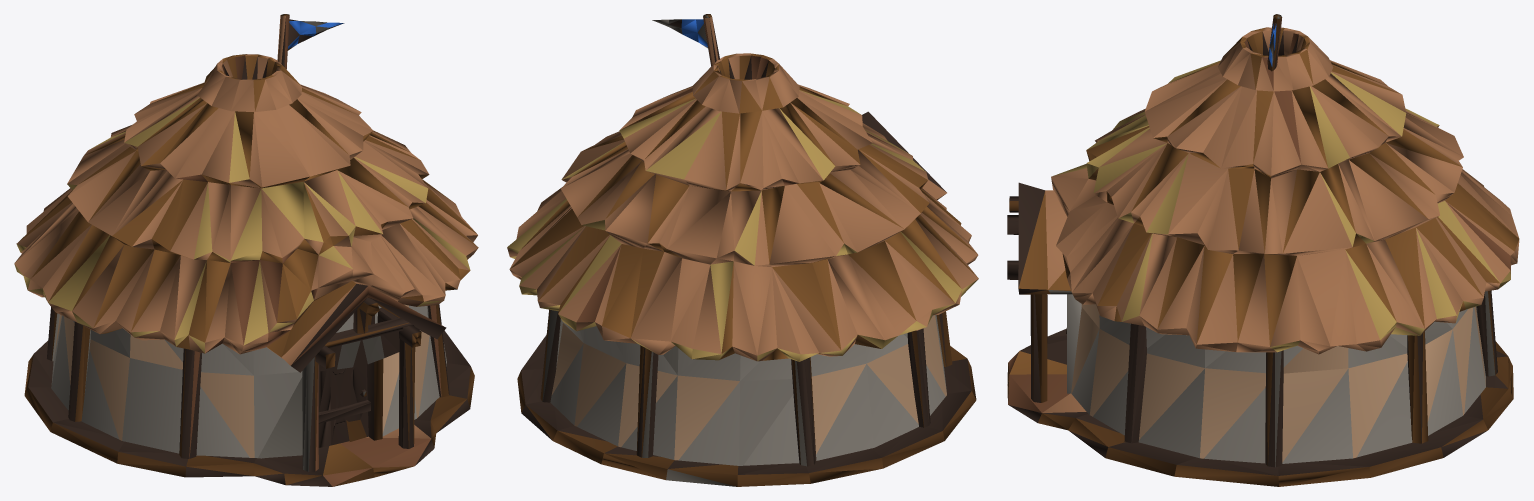
File: building.dwelling_medium_v3.glb
3 views of the same model, side by side, from view 1: azimuth 30°, elevation 25°; view 2: azimuth 150°, elevation 25°; view 3: azimuth 270°, elevation 25° (orthographic). The views are drawn at different scales.
Visible parts, largest first — view 1: asset; view 2: asset; view 3: asset.
Boxes of the visible parts, x1,y1,x2,y2 form: asset: (14, 14, 478, 486); asset: (507, 14, 978, 486); asset: (1007, 14, 1519, 486).
Bounding box in the file's own units: 1.97 × 1.67 × 2.
